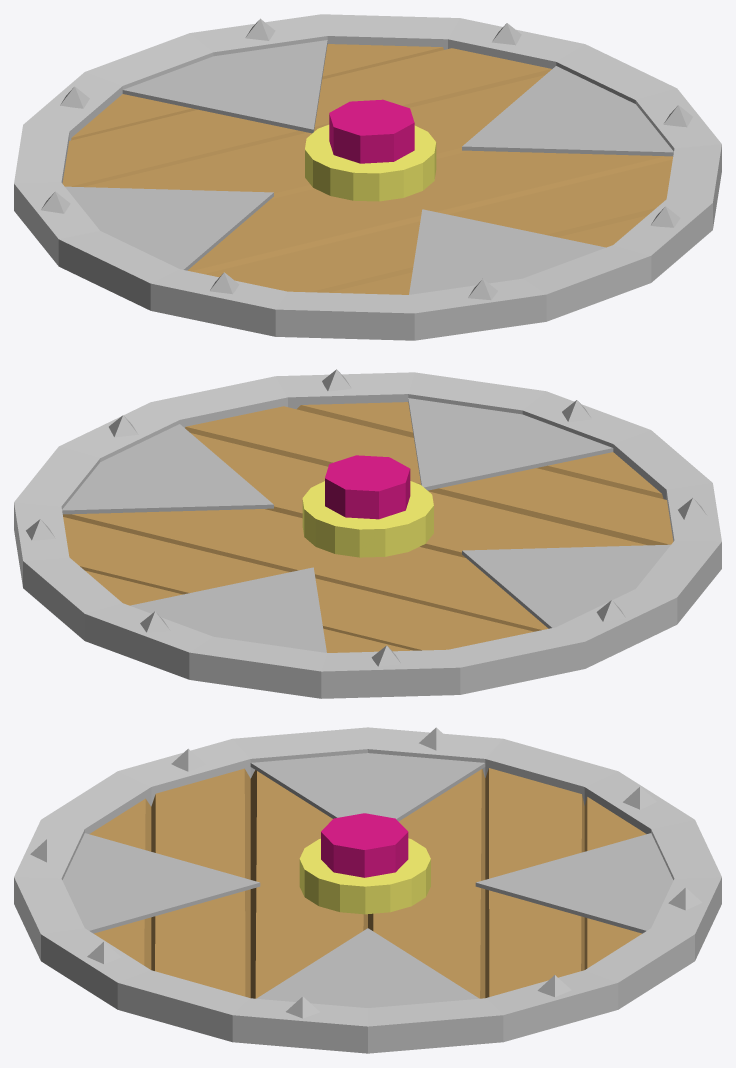
The model's file is Shield_1_d_wood.fbx.
The picture shows the model from 3 angles, top to bottom: view 1: azimuth 30°, elevation 25°; view 2: azimuth 150°, elevation 25°; view 3: azimuth 270°, elevation 25°; orthographic projection.
Parts seen in each view (by area): view 1: Circle.077, Circle.076, Circle.075, Circle.078, Circle.079; view 2: Circle.077, Circle.076, Circle.075, Circle.078, Circle.079; view 3: Circle.077, Circle.076, Circle.075, Circle.078, Circle.079.
Part boxes in pixels (x1,y1,x2,y2): Circle.077: (62, 44, 672, 294); Circle.076: (14, 14, 721, 340); Circle.075: (65, 40, 673, 294); Circle.078: (305, 124, 436, 201); Circle.079: (329, 99, 414, 163); Circle.077: (63, 402, 673, 652); Circle.076: (14, 372, 721, 698); Circle.075: (62, 398, 670, 652); Circle.078: (302, 481, 433, 557); Circle.079: (325, 455, 410, 519); Circle.077: (89, 768, 646, 998); Circle.076: (14, 727, 721, 1053); Circle.075: (62, 753, 673, 1007); Circle.078: (299, 838, 430, 914); Circle.079: (321, 813, 408, 877).
Bounding box in the file's own units: 80.85 × 20.17 × 80.85.
